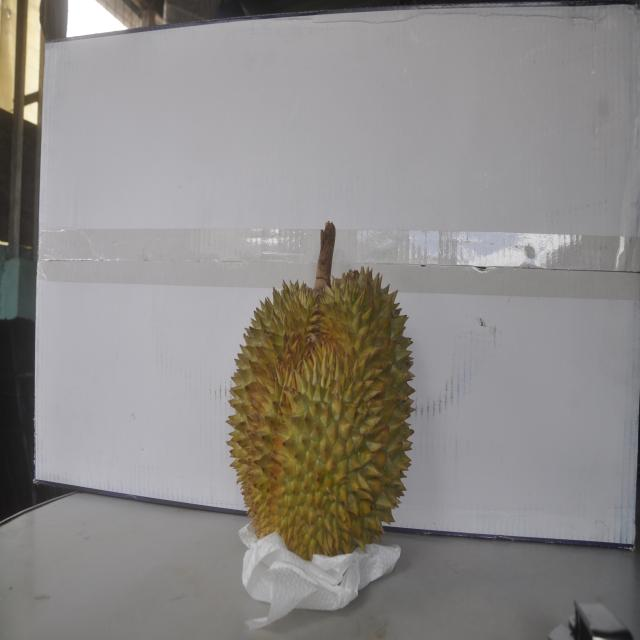mature: (228, 241, 416, 564)
